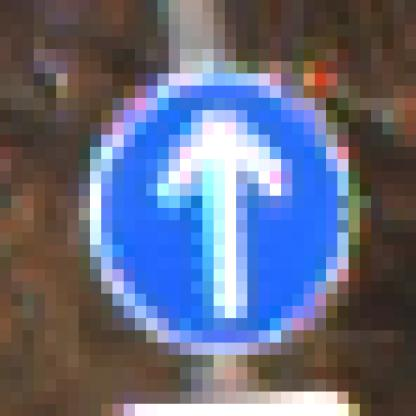AheadOnly: (69, 62, 350, 356)
